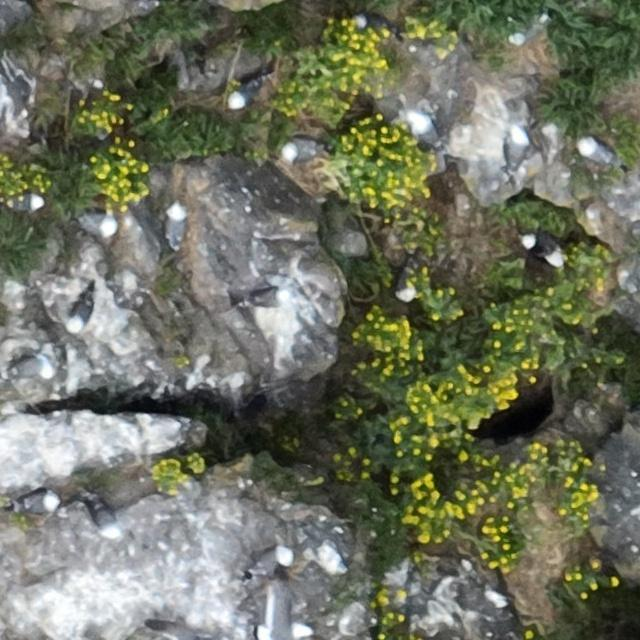F: (260, 586, 312, 638)
umineko: (408, 114, 444, 154), (9, 356, 53, 381), (524, 236, 560, 264), (250, 548, 287, 574), (511, 16, 545, 44), (229, 80, 260, 109), (578, 140, 612, 166), (242, 288, 284, 309), (79, 214, 117, 237), (70, 295, 94, 330), (166, 207, 186, 247), (506, 126, 526, 166), (19, 494, 56, 515), (283, 138, 319, 159), (92, 504, 116, 535), (397, 265, 418, 299), (9, 193, 44, 211), (357, 15, 389, 32)
